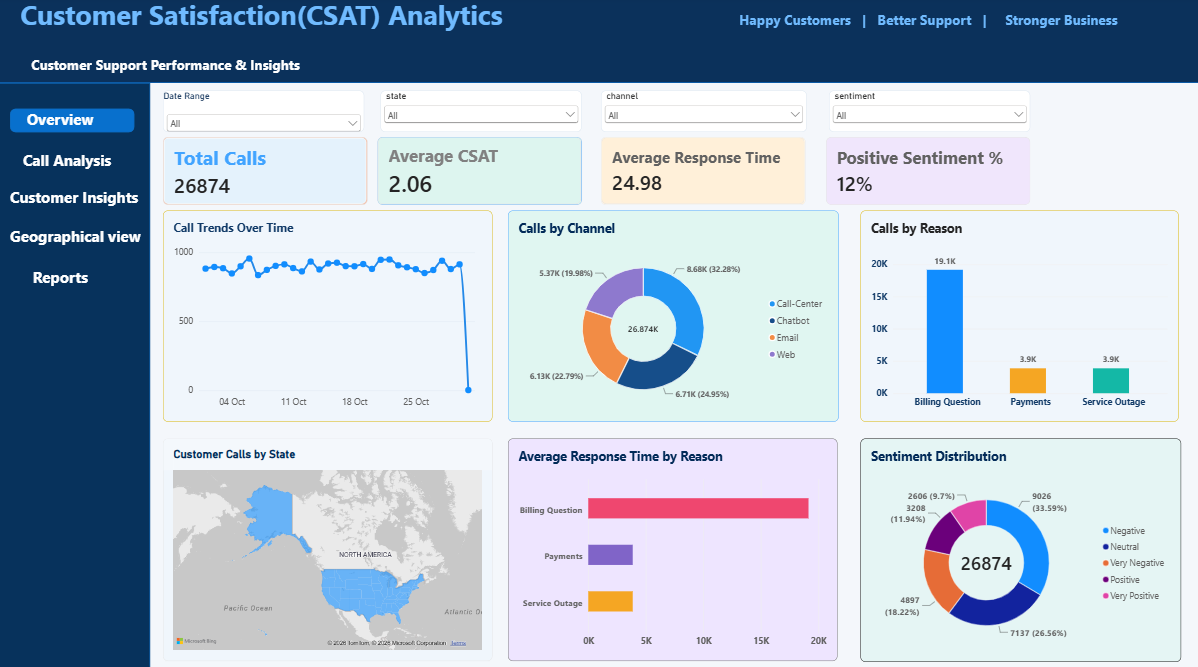

What the dashboard file says about the page in this screenshot:
{"tool":"powerbi","page":{"name":"Page 1","canvas":[1920,1080],"ordinal":0},"visuals":[{"type":"shape","box":[0,0,1920.7,138.4],"z":0},{"type":"textbox","box":[0,0,1920.7,138.4],"z":1000},{"type":"shape","box":[0,138,242,936],"z":2000},{"type":"shape","box":[20,178,198,38],"z":3000},{"type":"textbox","box":[20,178,198,38],"z":4000},{"type":"textbox","box":[20,240,198,38],"z":5000},{"type":"textbox","box":[20,302,242,38],"z":6000},{"type":"textbox","box":[20,364,260,38],"z":7000},{"type":"textbox","box":[20,426,198,38],"z":8000},{"type":"slicer","title":"Date Range","fields":{"Values":["CSAT_DATASET1 csv.call_timestamp"]},"box":[262,150,320,66],"z":9000},{"type":"slicer","fields":{"Values":["CSAT_DATASET1 csv.state"]},"box":[608,150,320,66],"z":10000},{"type":"slicer","fields":{"Values":["CSAT_DATASET1 csv.channel"]},"box":[960,150,327,66],"z":11000},{"type":"slicer","fields":{"Values":["CSAT_DATASET1 csv.sentiment"]},"box":[1322.5,150,320,66],"z":12000},{"type":"cardVisual","fields":{"Data":["CSAT_DATASET1 csv.Total Calls"]},"box":[262,224,325,108],"z":13000},{"type":"cardVisual","fields":{"Data":["CSAT_DATASET1 csv.Average CSAT"]},"box":[604,224,325,108],"z":14000},{"type":"cardVisual","fields":{"Data":["CSAT_DATASET1 csv.Average Response Time"]},"box":[960,224,325,108],"z":15000},{"type":"cardVisual","fields":{"Data":["CSAT_DATASET1 csv.Positive Sentiment %"]},"box":[1318,224,325,108],"z":16000},{"type":"lineChart","title":"Call Trends Over Time","fields":{"Category":["CSAT_DATASET1 csv.call_timestamp.Variation.Date Hierarchy.Year","CSAT_DATASET1 csv.call_timestamp.Variation.Date Hierarchy.Quarter","CSAT_DATASET1 csv.call_timestamp.Variation.Date Hierarchy.Month","CSAT_DATASET1 csv.call_timestamp.Variation.Date Hierarchy.Day"],"Y":["CSAT_DATASET1 csv.Total Calls"]},"box":[262,340,524,336],"z":17000},{"type":"donutChart","title":"Calls by Channel","fields":{"Category":["CSAT_DATASET1 csv.channel"],"Y":["CountNonNull(CSAT_DATASET1 csv.id)"]},"box":[812,340,526,336],"z":18000},{"type":"filledMap","title":"Customer Calls by State","fields":{"Category":["CSAT_DATASET1 csv.state"]},"box":[262,704,524,354],"z":19000},{"type":"clusteredColumnChart","title":"Calls by Reason","fields":{"Category":["CSAT_DATASET1 csv.reason"],"Y":["CountNonNull(CSAT_DATASET1 csv.id)"]},"box":[1372,340,506,336],"z":19001},{"type":"clusteredBarChart","title":"Average Response Time by Reason","fields":{"Category":["CSAT_DATASET1 csv.reason"],"Y":["CountNonNull(CSAT_DATASET1 csv.response_time)"]},"box":[812,704,524,354],"z":19002},{"type":"donutChart","title":"Sentiment Distribution","fields":{"Category":["CSAT_DATASET1 csv.sentiment"],"Y":["CSAT_DATASET1 csv.Total Calls"]},"box":[1372.5,705,510,355],"z":19003}]}

Visuals, with their boxes on the page's 1920x1080 design canvas (x1, y1, x2, y2). These are canvas units, not pixel positions in the 1198x667 screenshot, which may show the page scaled, cropped or inside an application window:
shape: select_region(0, 0, 1921, 138)
textbox: select_region(0, 0, 1921, 138)
shape: select_region(0, 138, 242, 1074)
shape: select_region(20, 178, 218, 216)
textbox: select_region(20, 178, 218, 216)
textbox: select_region(20, 240, 218, 278)
textbox: select_region(20, 302, 262, 340)
textbox: select_region(20, 364, 280, 402)
textbox: select_region(20, 426, 218, 464)
"Date Range" slicer: select_region(262, 150, 582, 216)
slicer - CSAT_DATASET1 csv.state: select_region(608, 150, 928, 216)
slicer - CSAT_DATASET1 csv.channel: select_region(960, 150, 1287, 216)
slicer - CSAT_DATASET1 csv.sentiment: select_region(1322, 150, 1642, 216)
cardVisual - CSAT_DATASET1 csv.Total Calls: select_region(262, 224, 587, 332)
cardVisual - CSAT_DATASET1 csv.Average CSAT: select_region(604, 224, 929, 332)
cardVisual - CSAT_DATASET1 csv.Average Response Time: select_region(960, 224, 1285, 332)
cardVisual - CSAT_DATASET1 csv.Positive Sentiment %: select_region(1318, 224, 1643, 332)
"Call Trends Over Time" lineChart: select_region(262, 340, 786, 676)
"Calls by Channel" donutChart: select_region(812, 340, 1338, 676)
"Customer Calls by State" filledMap: select_region(262, 704, 786, 1058)
"Calls by Reason" clusteredColumnChart: select_region(1372, 340, 1878, 676)
"Average Response Time by Reason" clusteredBarChart: select_region(812, 704, 1336, 1058)
"Sentiment Distribution" donutChart: select_region(1372, 705, 1882, 1060)
